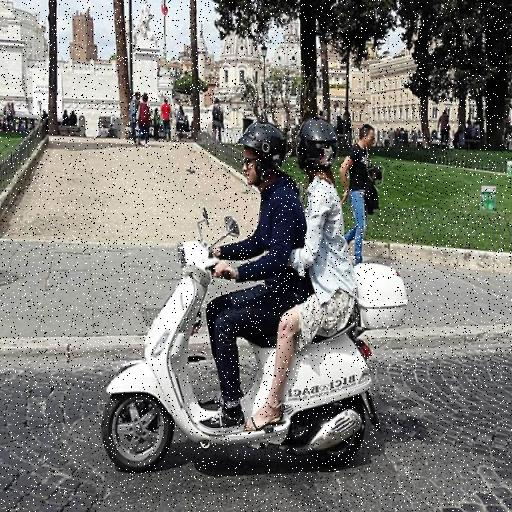Helmet: (228, 120, 286, 190), (286, 117, 342, 179)
Motor: (100, 243, 400, 473)
